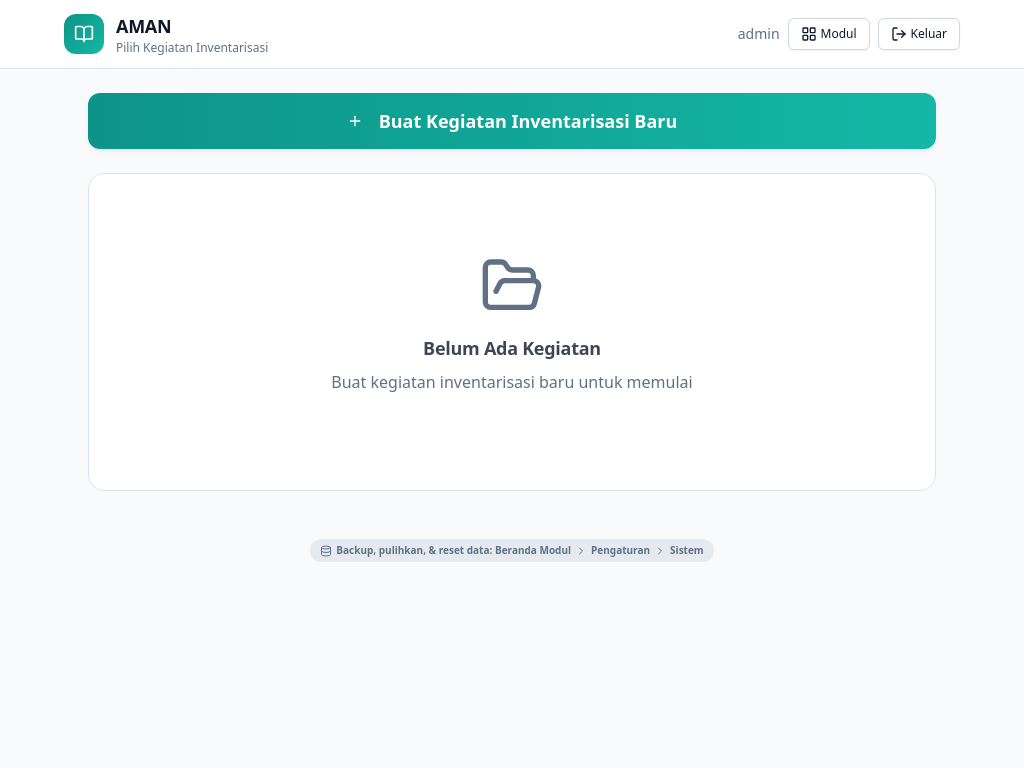
Test: pencarian satker MENIMPA akar bawaan pengguna
The width and height of the screenshot is (1024, 768).
Click the button "Buat Kegiatan Inventarisasi Baru". click: point(512, 121)
box: [88,93,936,149]
(page scrolled)
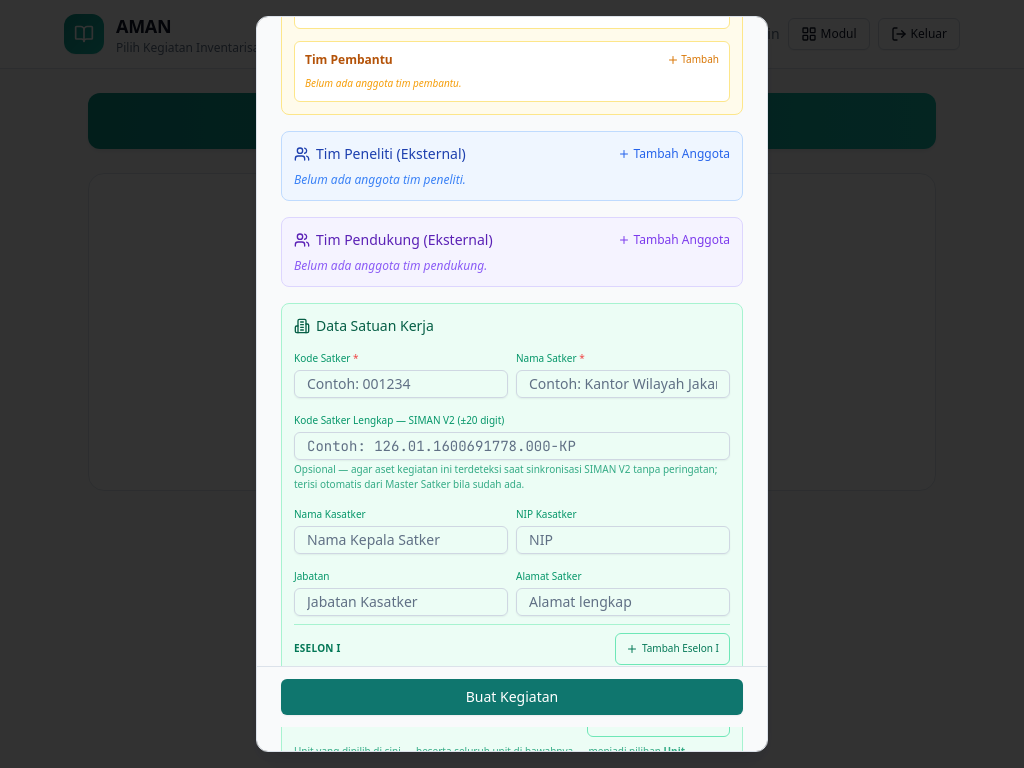
Now the label with test id "label-eselon-puncak" reads "Eselon I", box [294,641,341,655]
Type "333333" into the field with test id "input-kode-satker". click: point(401, 384)
box: [294,370,508,398]
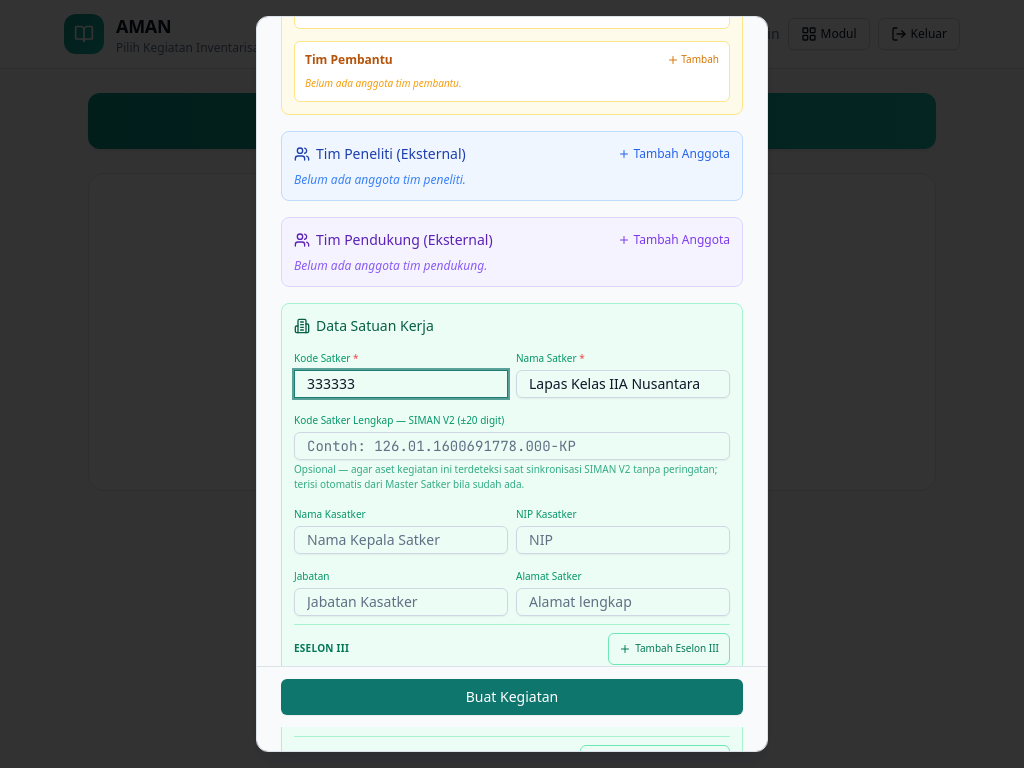
Now the label with test id "label-eselon-puncak" reads "Eselon III", box [294,641,349,655]
